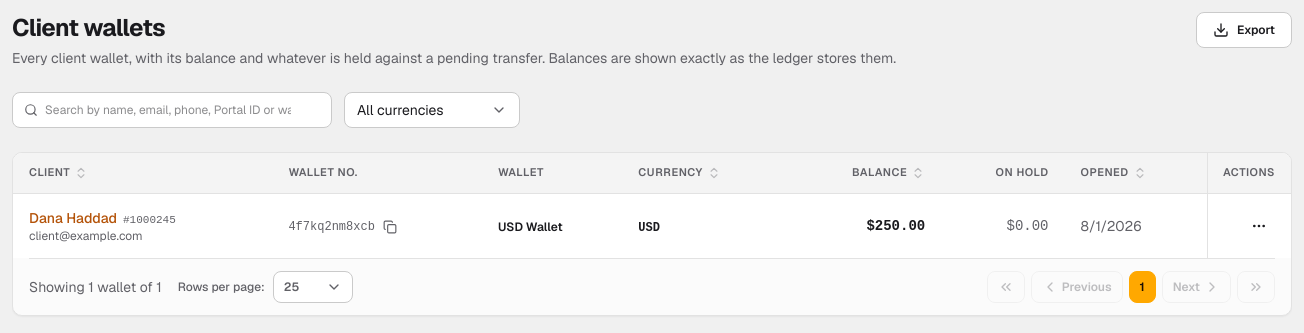
wallets — filtering and sorting reach the API › sends the chosen currency to the API rather than filtering on screen
Expected: the text "client@example.com" is shown, [29,228,143,244]
Step 1. Click the dropdown named "currency" → (432, 110), box [344,92,520,128]
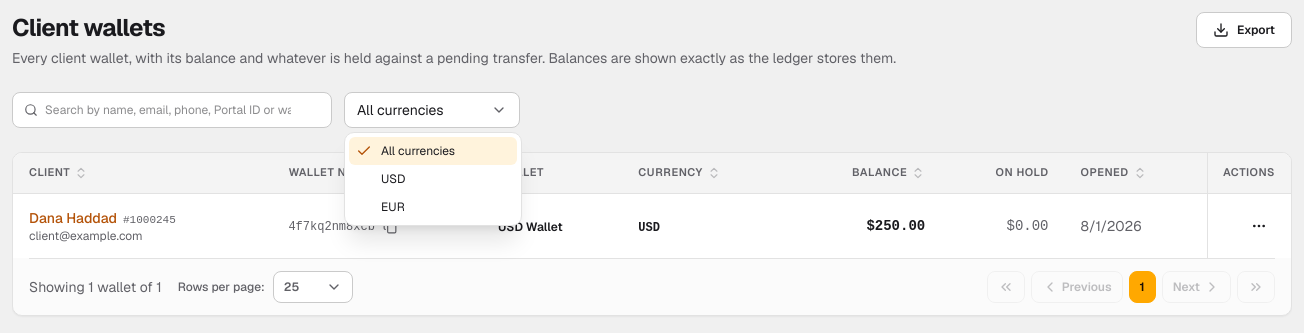
Step 2. Click the option "USD" → (393, 179), box [381,171,405,187]
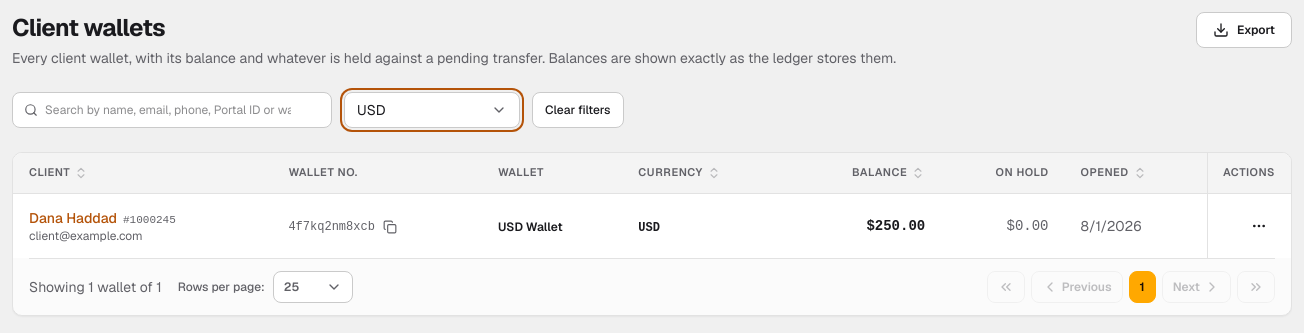
Expected: the 1st text "USD" is shown, [357,100,386,120]
